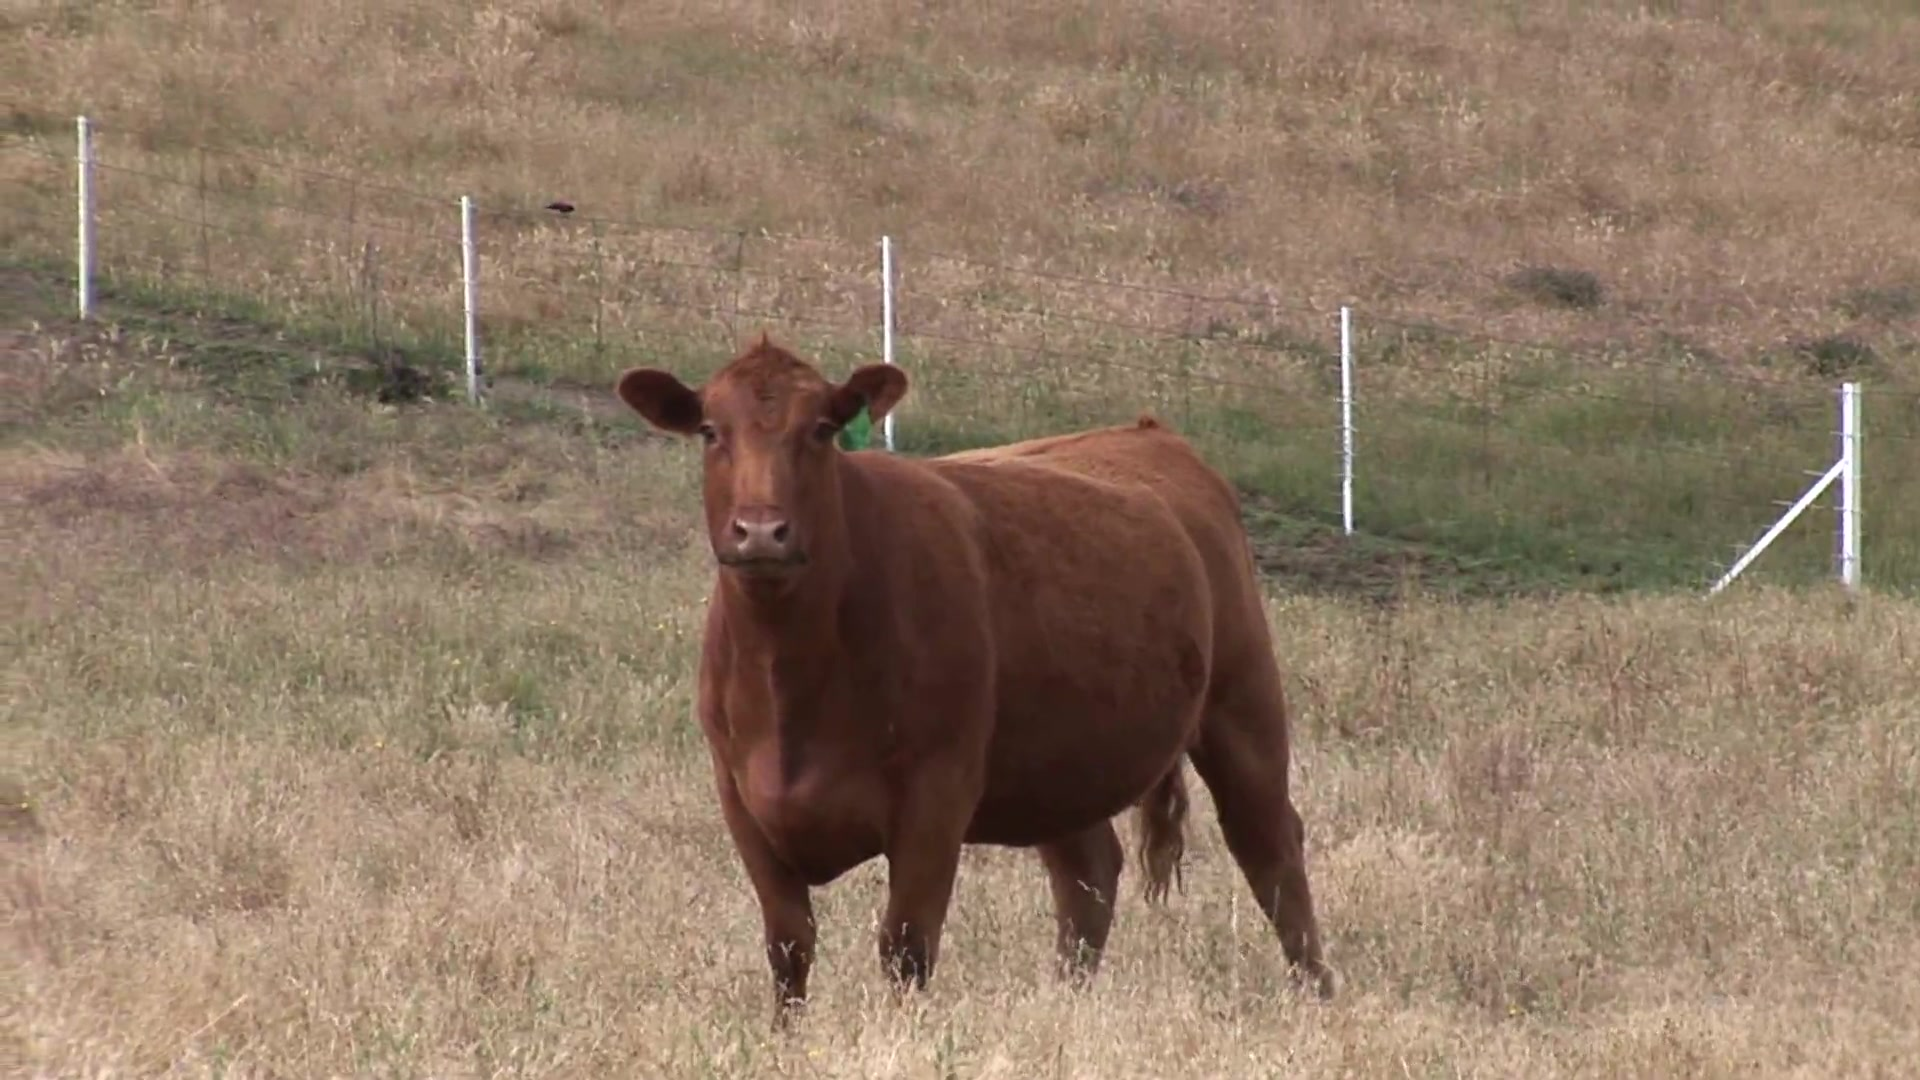cow: (613, 332, 1338, 1007)
